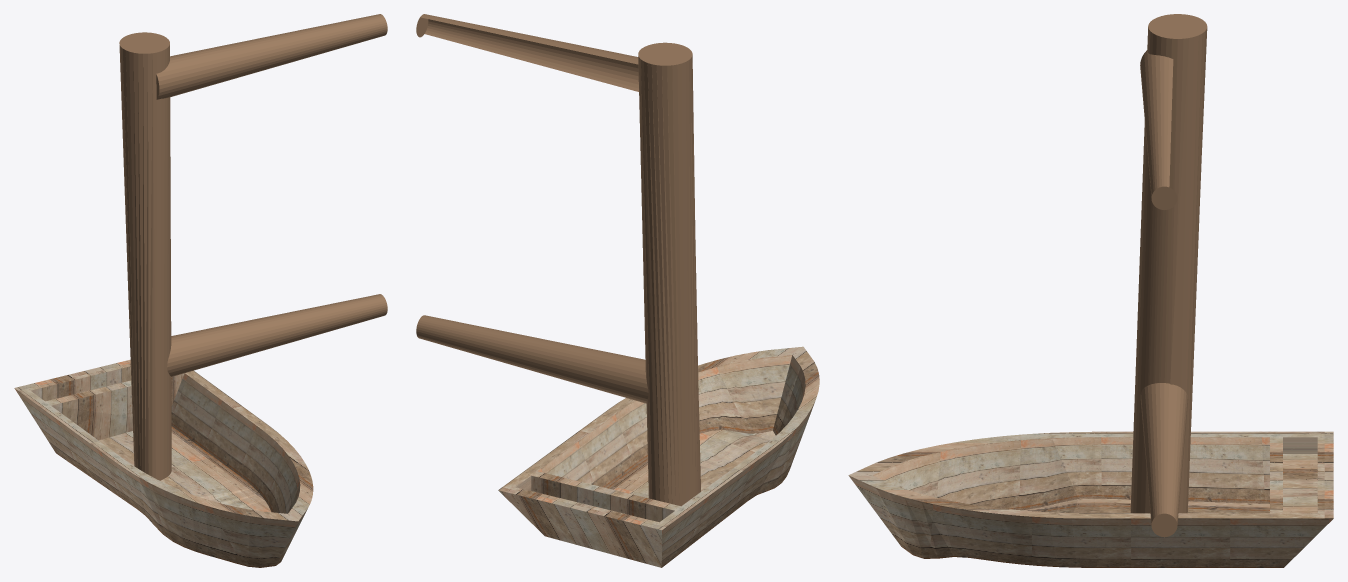
The model's file is boat_sail.dae.
3 views of the same model, side by side, from view 1: azimuth 30°, elevation 25°; view 2: azimuth 150°, elevation 25°; view 3: azimuth 270°, elevation 25° (orthographic). The views are drawn at different scales.
Parts seen in each view (by area): view 1: Barco; view 2: Barco; view 3: Barco.
Boxes of the visible parts, x1,y1,x2,y2 form: Barco: (14,14,387,567); Barco: (416,14,819,567); Barco: (848,14,1333,567).
Size of the model in its own units: 5.19 by 6.33 by 7.44.
Materials: 1 (1 with a texture image).
